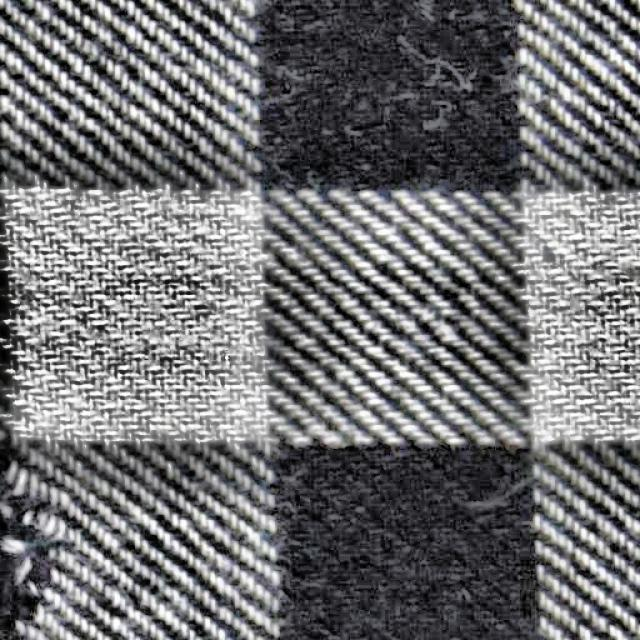Stitch: (1, 470, 91, 638), (382, 26, 498, 137), (459, 466, 546, 529), (261, 50, 325, 130)
